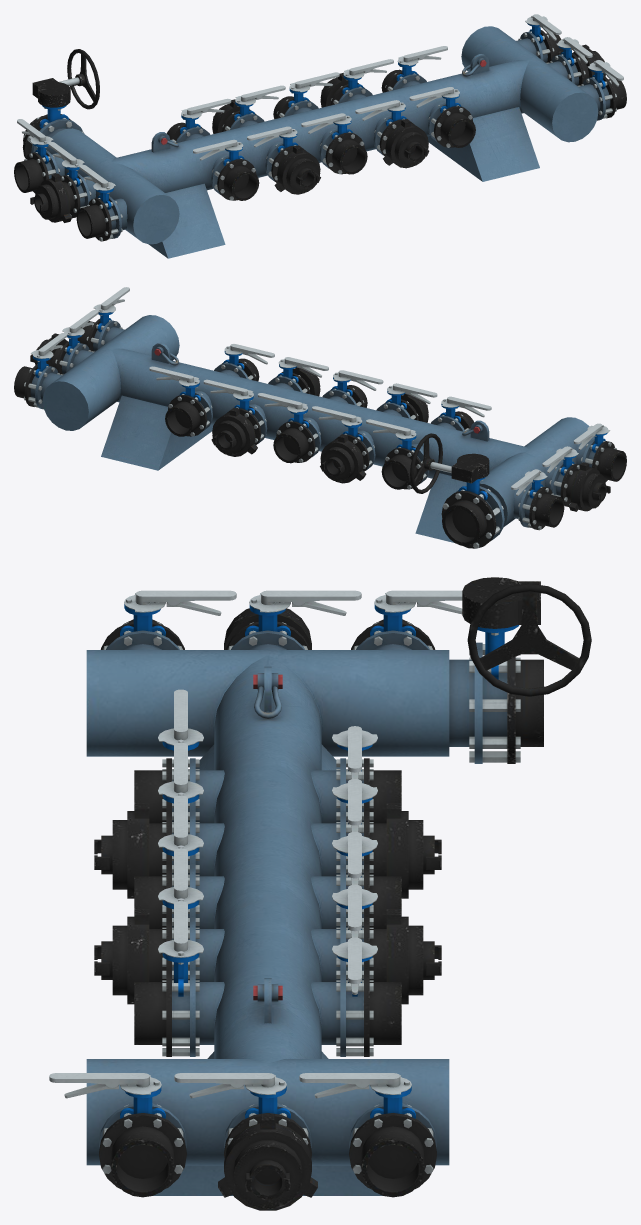
File: index.gltf
The picture shows the model from 3 angles, top to bottom: view 1: azimuth 30°, elevation 25°; view 2: azimuth 150°, elevation 25°; view 3: azimuth 270°, elevation 25°; orthographic projection. The views are drawn at different scales.
Parts seen in each view (by area): view 1: GongYeLiuChengGuanHui; view 2: GongYeLiuChengGuanHui; view 3: GongYeLiuChengGuanHui.
Boxes of the visible parts, x1=… form: GongYeLiuChengGuanHui: x1=14, y1=14, x2=626, y2=258; GongYeLiuChengGuanHui: x1=14, y1=287, x2=626, y2=548; GongYeLiuChengGuanHui: x1=49, y1=577, x2=591, y2=1210.
Size of the model in its own units: 2.94 by 0.6503 by 1.21.
Materials: 1 (1 with a texture image).
